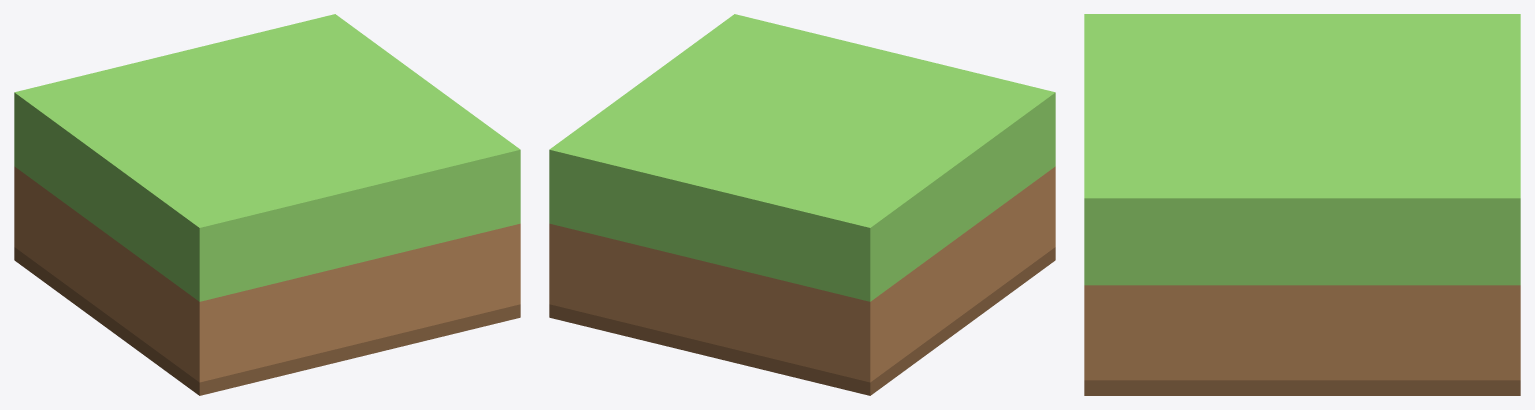
File: Grass_TopHalf.glb
3 views of the same model, side by side, from view 1: azimuth 30°, elevation 25°; view 2: azimuth 150°, elevation 25°; view 3: azimuth 270°, elevation 25° (orthographic). The views are drawn at different scales.
Parts seen in each view (by area): view 1: Grass_TopHalf_body; view 2: Grass_TopHalf_body; view 3: Grass_TopHalf_body.
Part boxes in pixels (<box>): Grass_TopHalf_body: <box>14,14,520,395</box>; Grass_TopHalf_body: <box>549,14,1055,395</box>; Grass_TopHalf_body: <box>1084,14,1520,395</box>.
Bounding box in the file's own units: 1 × 0.5 × 1.
